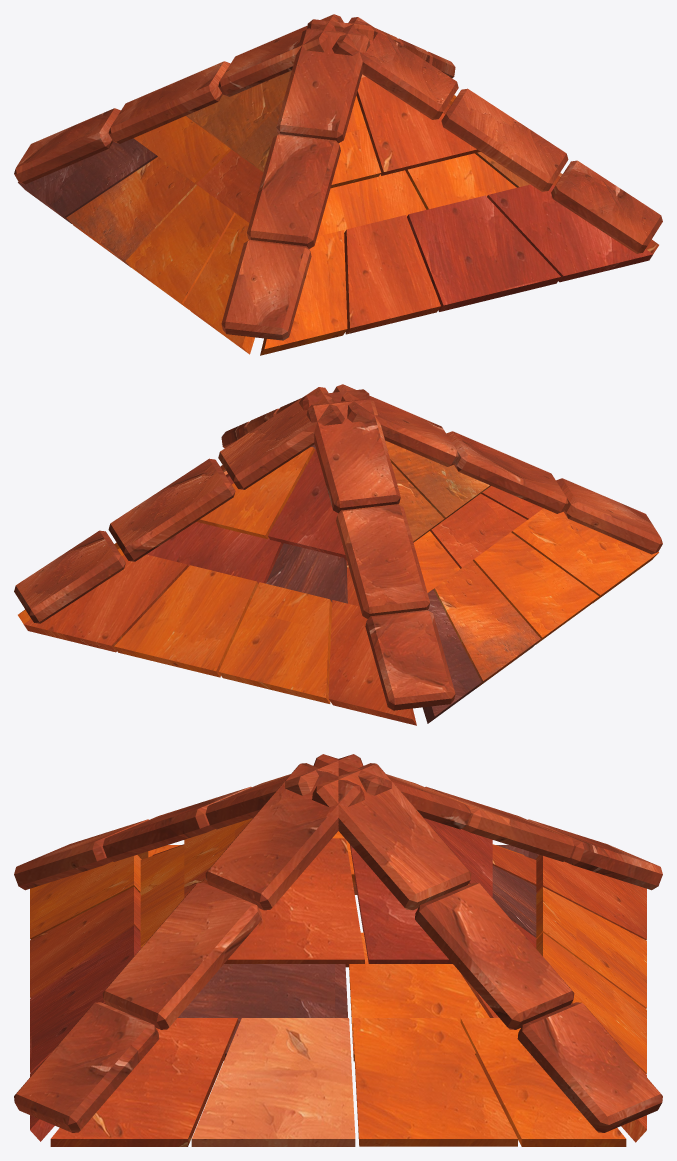
Rendered from roof_cap__clay_brick.glb.
3 views of the same model, one above another, from view 1: azimuth 30°, elevation 25°; view 2: azimuth 150°, elevation 25°; view 3: azimuth 270°, elevation 25° (orthographic). The views are drawn at different scales.
Visible parts, largest first — view 1: model; view 2: model; view 3: model.
Boxes of the visible parts, <box> form: model: <box>14,14,662,355</box>; model: <box>14,384,662,725</box>; model: <box>14,754,662,1146</box>.
Bounding box in the file's own units: 1.03 × 0.4405 × 1.03.
Materials: 8 (8 with a texture image).
